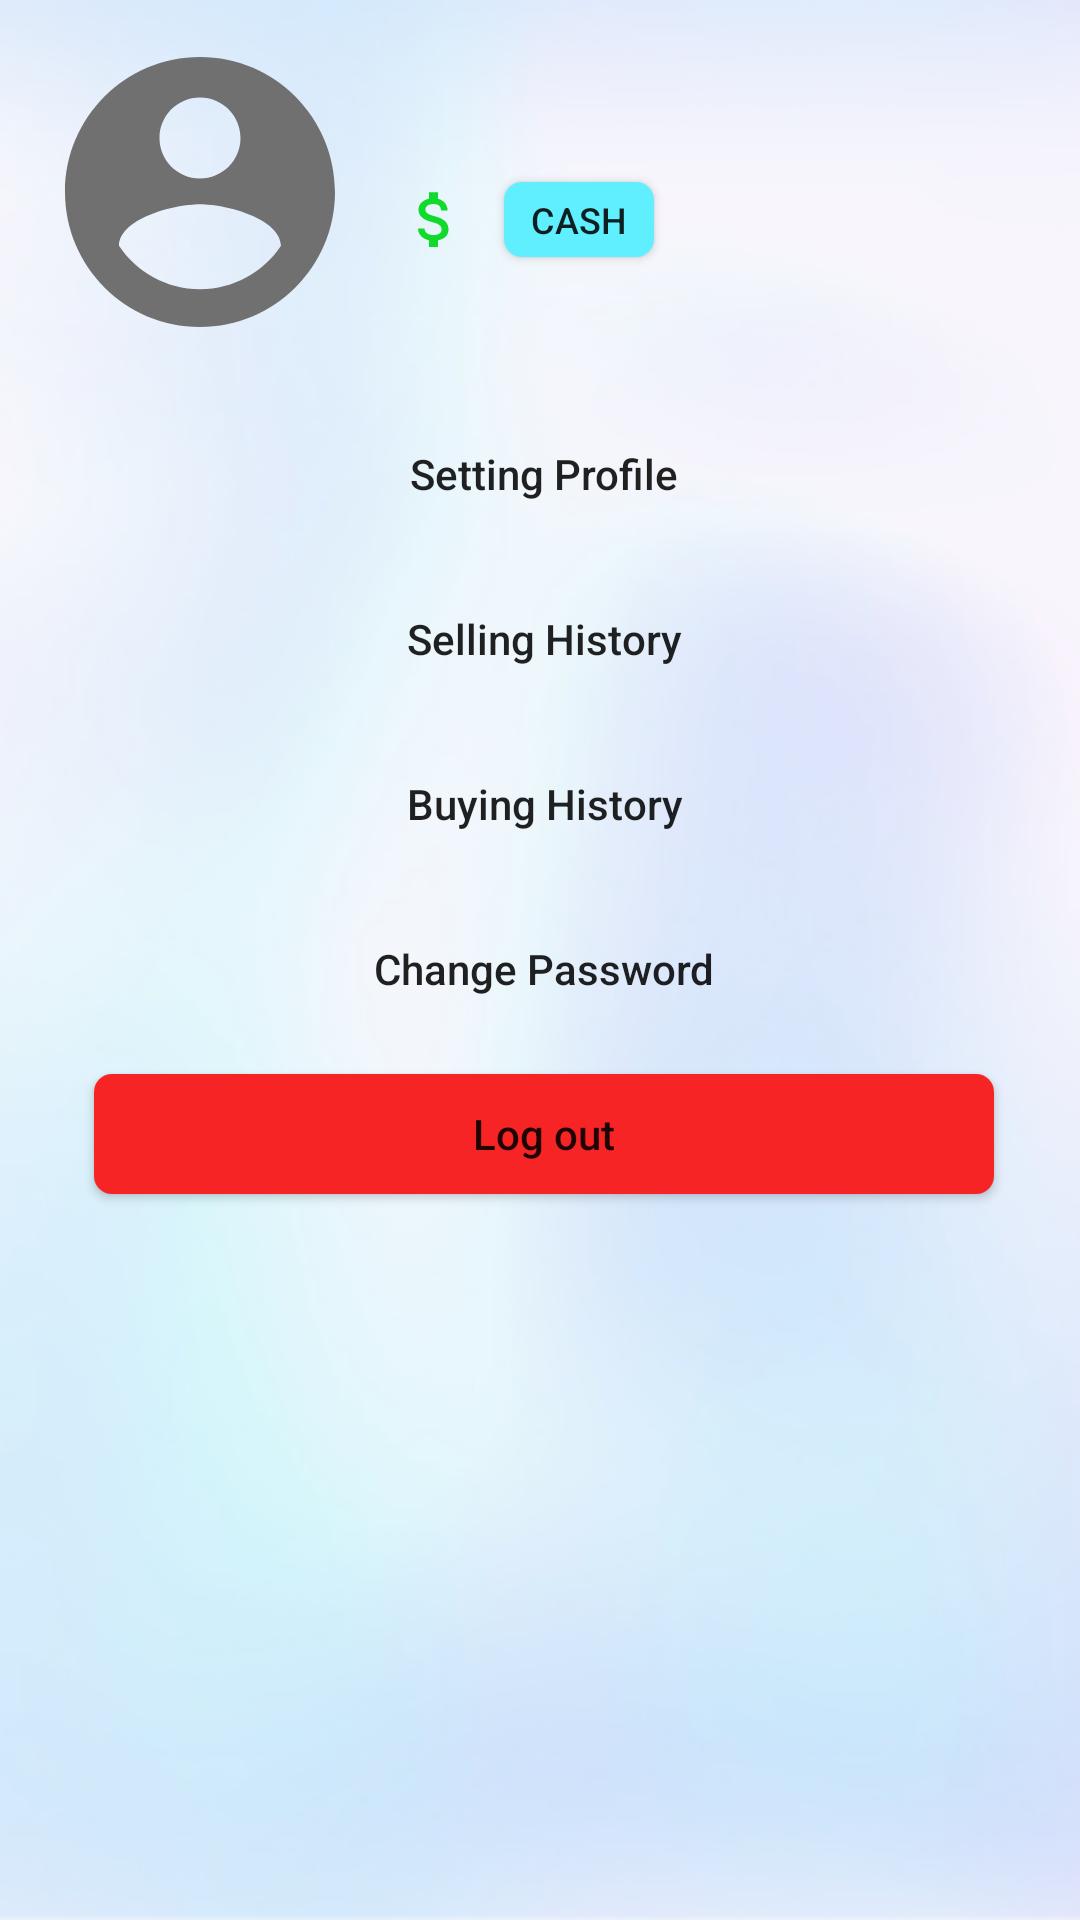

Icon bounding boxes for this 1080×1920 phone screenshot, format {"x1": x1, "y1": y1, "x2": x2, "y2": y2}:
attach money: {"x1": 418, "y1": 192, "x2": 449, "y2": 247}
profile tab: {"x1": 65, "y1": 57, "x2": 335, "y2": 327}
